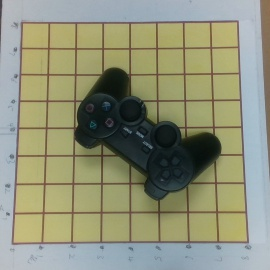remote: (76, 66, 223, 205)
